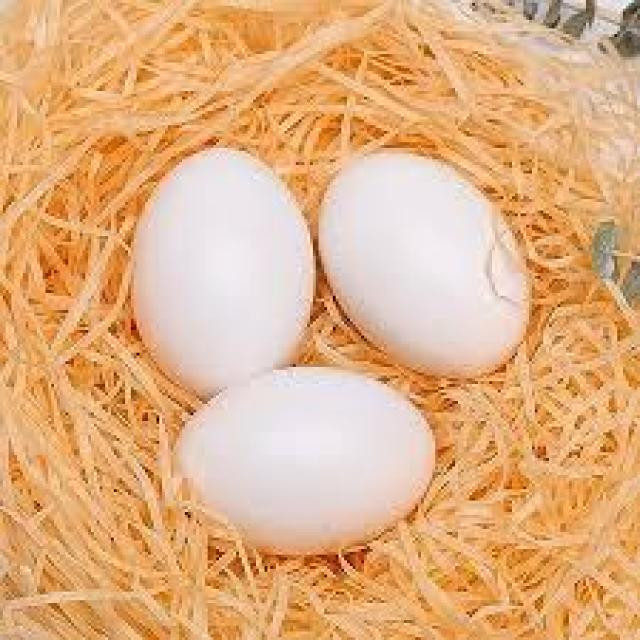White Egg: (169, 368, 437, 566), (320, 150, 541, 376), (126, 146, 310, 381)
